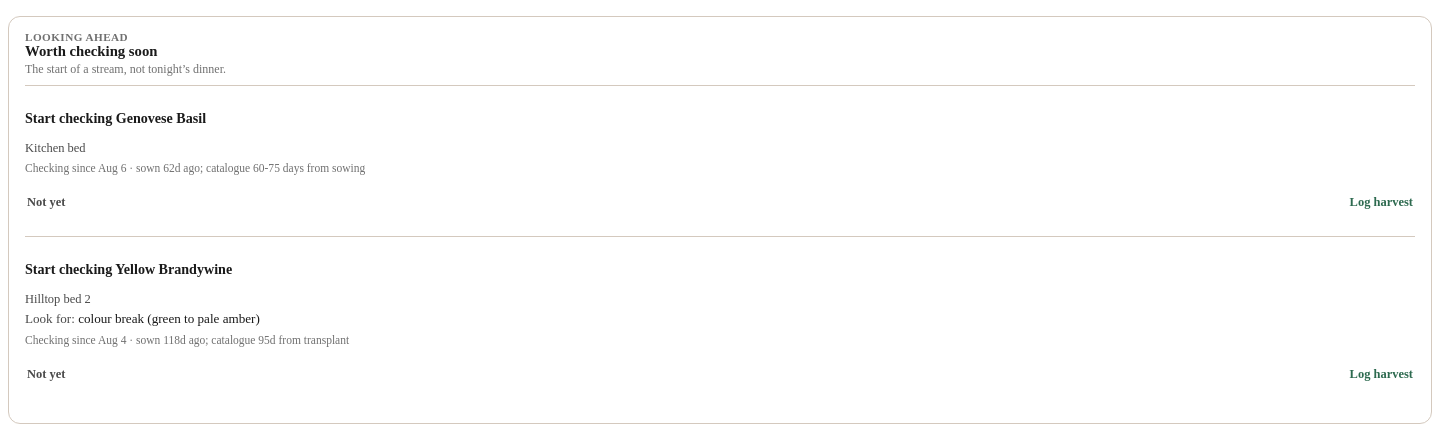
HarvestWatchBand — the "not yet" dismissal (the first negative-class sample) › removes the row and writes the negative sample
What coordinates should you click on to do the following:
click the button with aria-label "Not yet — Yellow Brandywine"
I would click on:
 (46, 375)
Its box is [25,351,67,399].
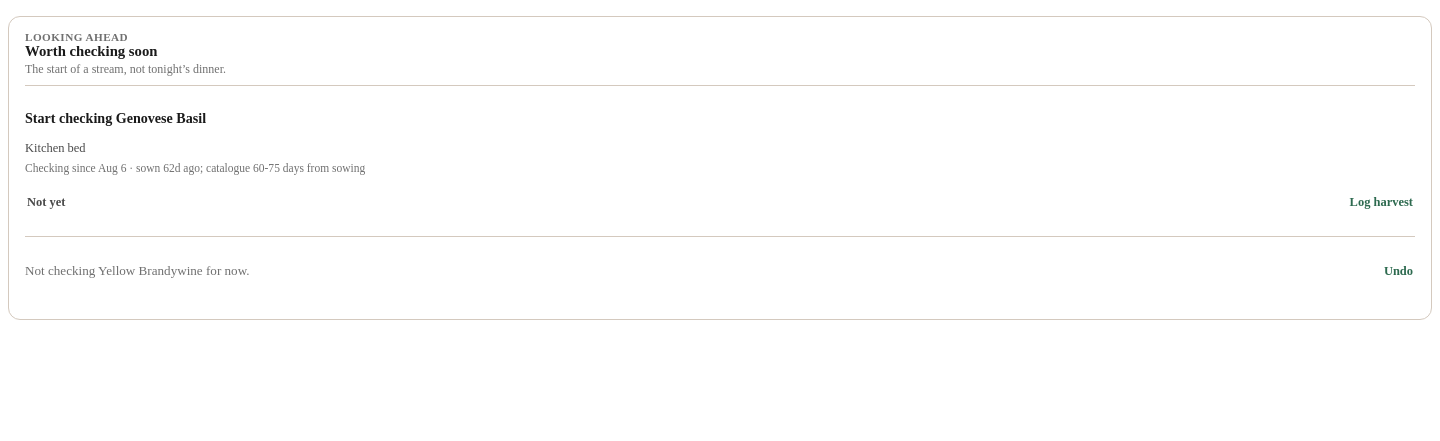
Expected: the link "Start checking Genovese Basil" is shown, [25,110,206,126]
Now the link "Worth checking soon" no longer shows "Start checking Yellow Brandywine"
Now the text "Not checking Yellow Brandywine for now." is shown, box [25,263,250,279]
